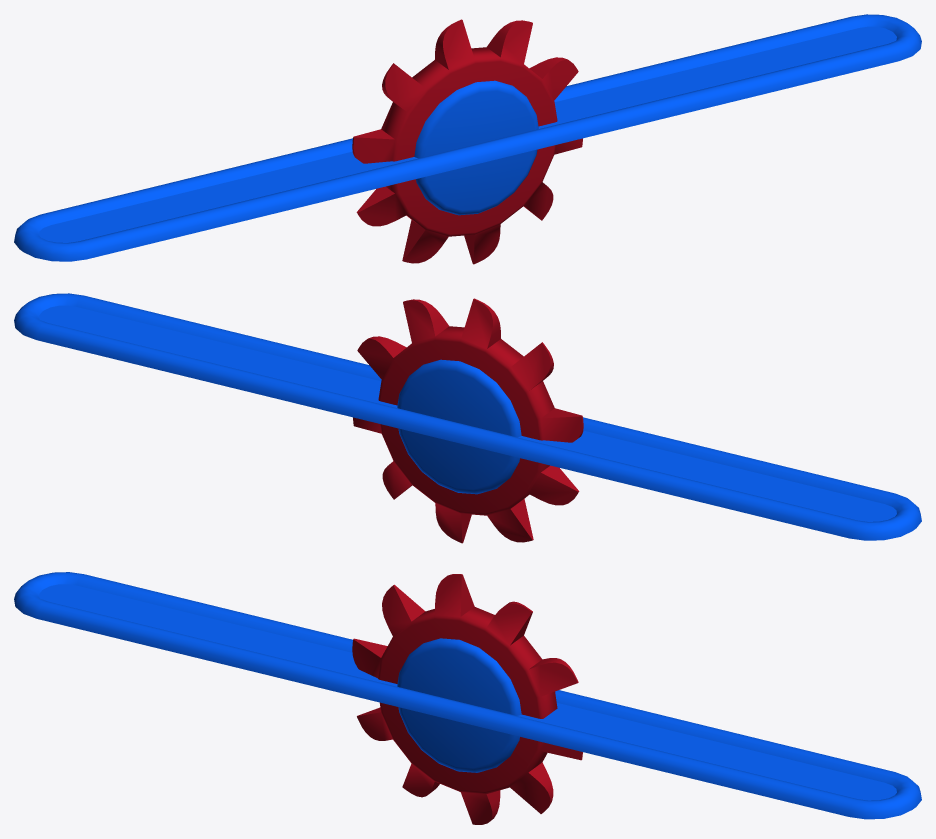
File: Grinder Blade.fbx
3 views of the same model, one above another, from view 1: azimuth 30°, elevation 25°; view 2: azimuth 150°, elevation 25°; view 3: azimuth 330°, elevation 25° (orthographic).
Parts seen in each view (by area): view 1: Grinder Blade Base, Grinder Blade; view 2: Grinder Blade Base, Grinder Blade; view 3: Grinder Blade Base, Grinder Blade.
Boxes of the visible parts, x1=… form: Grinder Blade Base: x1=14, y1=14, x2=921, y2=261; Grinder Blade: x1=352, y1=19, x2=582, y2=264; Grinder Blade Base: x1=14, y1=293, x2=921, y2=540; Grinder Blade: x1=353, y1=298, x2=583, y2=543; Grinder Blade Base: x1=14, y1=572, x2=921, y2=819; Grinder Blade: x1=352, y1=574, x2=582, y2=824.
Bounding box in the file's own units: 101 × 26.72 × 9.86.
